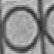no answer: (2, 4, 39, 52)
